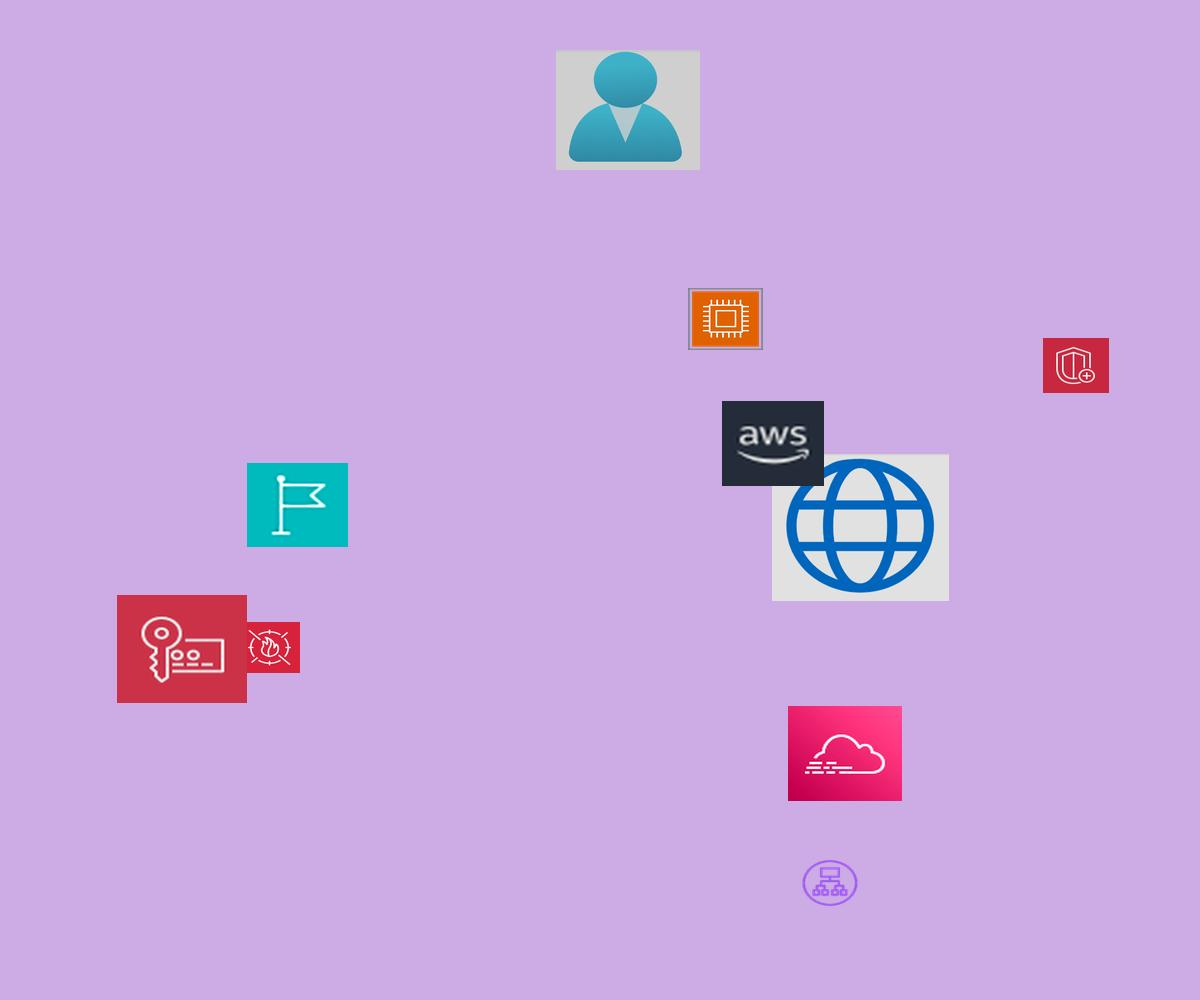AWS-Category_Compute: (688, 288, 763, 350)
AWS-Cloud-logo: (722, 401, 824, 486)
AWS-CloudTrail: (788, 706, 902, 801)
AWS-Key-Management-Service: (117, 595, 247, 703)
AWS-Region: (247, 463, 348, 547)
AWS-Res_Elastic-Load-Balancing_Application-Load-Balancer: (800, 858, 860, 908)
AWS-Shield: (1043, 338, 1109, 393)
AWS-WAF: (239, 622, 300, 673)
Azure_http: (772, 454, 949, 601)
Azure_users: (556, 50, 700, 170)
